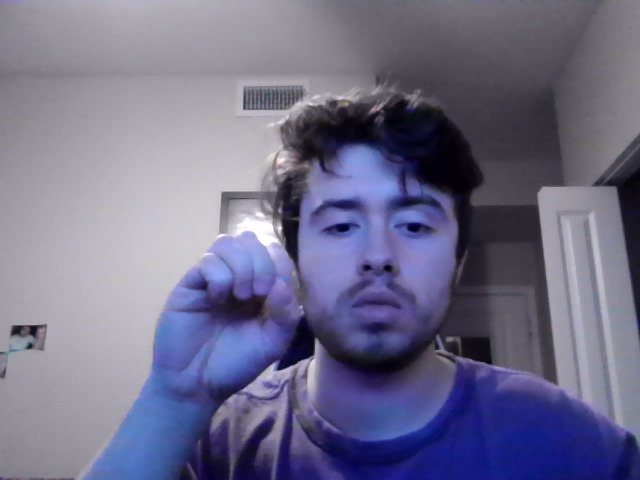o: (148, 229, 301, 416)
